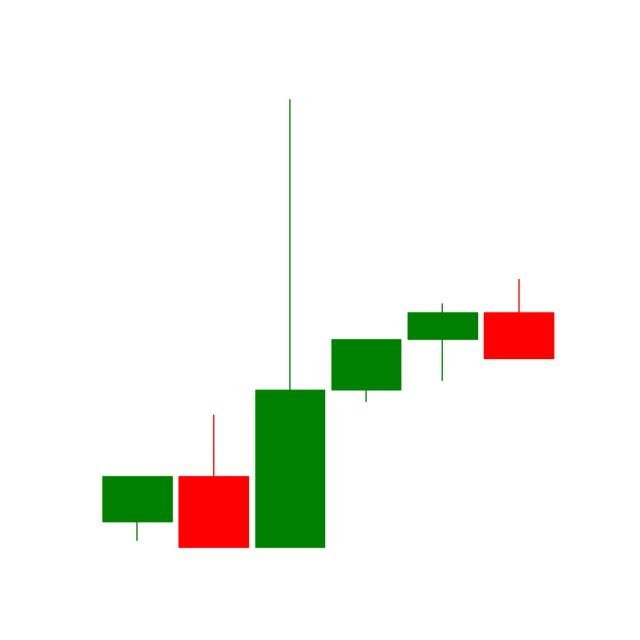Inverted Hammer: (251, 92, 331, 553)
Shooting Star: (174, 410, 248, 550), (482, 276, 558, 362)
